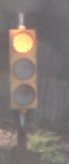Red: (4, 21, 47, 120)
